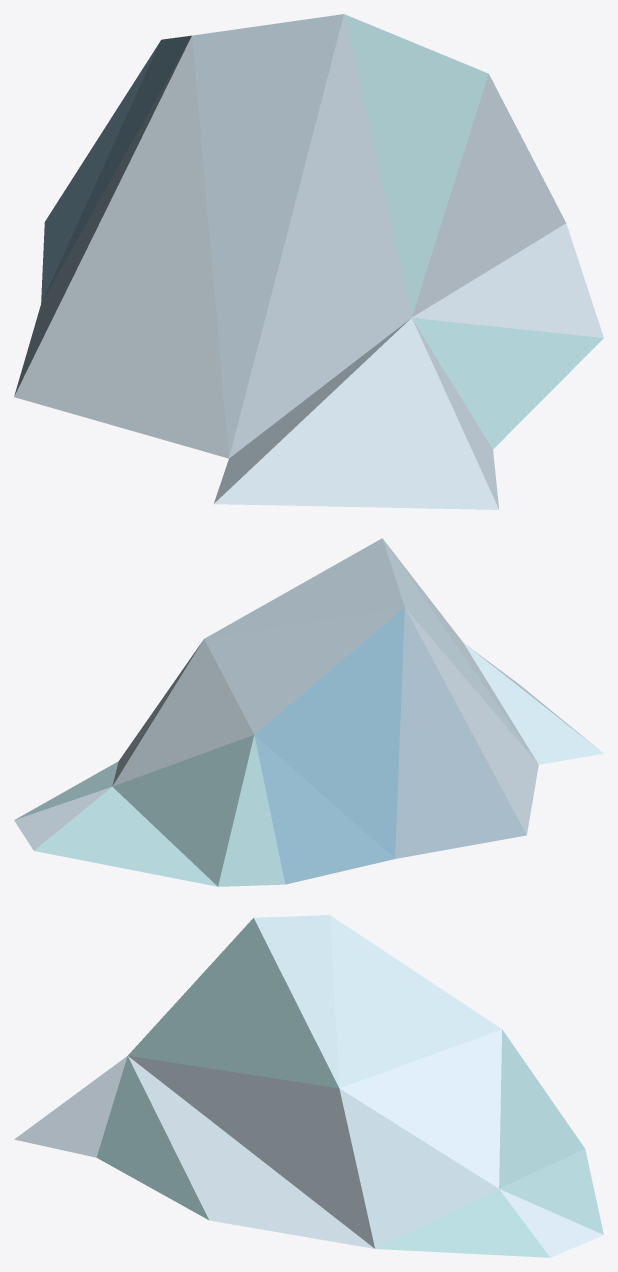
The model's file is Iceberg 17.fbx.
The picture shows the model from 3 angles, top to bottom: view 1: azimuth 30°, elevation 25°; view 2: azimuth 150°, elevation 25°; view 3: azimuth 270°, elevation 25°; orthographic projection. The views are drawn at different scales.
Parts seen in each view (by area): view 1: Iceberg 12; view 2: Iceberg 12; view 3: Iceberg 12.
Boxes of the visible parts, left/top/right/bottom form: Iceberg 12: left=14, top=14, right=603, bottom=509; Iceberg 12: left=14, top=538, right=603, bottom=886; Iceberg 12: left=14, top=915, right=603, bottom=1257.
Size of the model in its own units: 3314 by 1810 by 4189.
